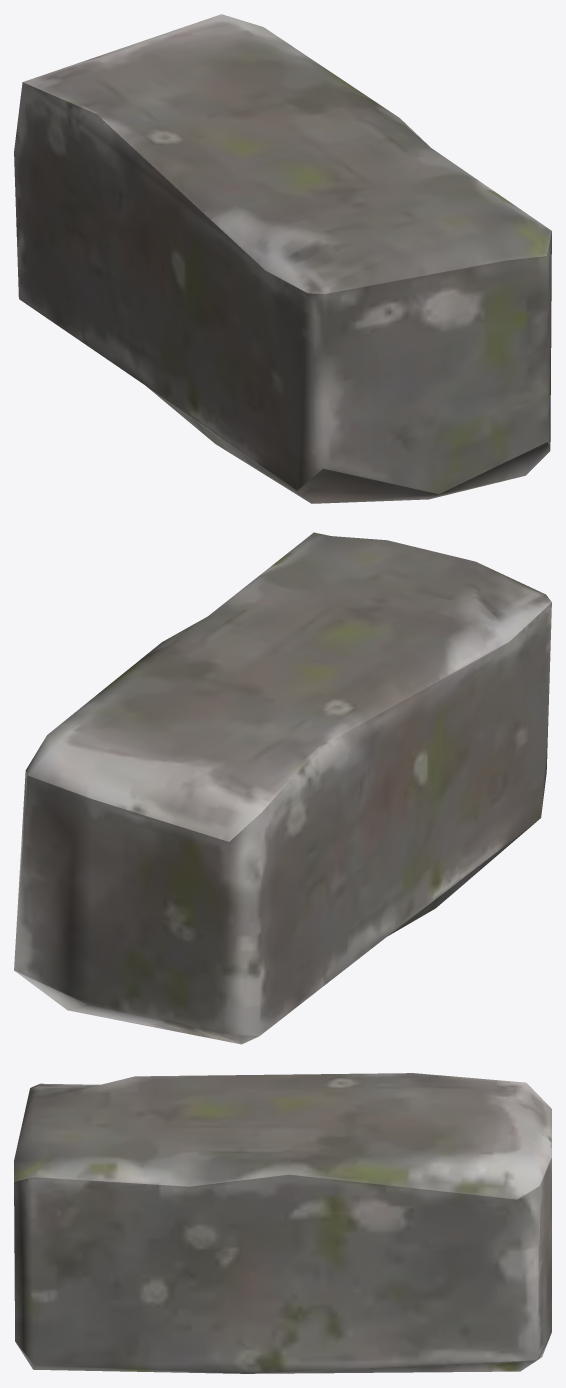
3 renders of one model, top to bottom at view 1: azimuth 30°, elevation 25°; view 2: azimuth 150°, elevation 25°; view 3: azimuth 270°, elevation 25°, orthographic. The views are drawn at different scales.
Visible parts, largest first — view 1: SM_River_Bridge_Unique_Bricks_04_LOD0; view 2: SM_River_Bridge_Unique_Bricks_04_LOD0; view 3: SM_River_Bridge_Unique_Bricks_04_LOD0.
Part boxes in pixels (left/top/right/bottom): SM_River_Bridge_Unique_Bricks_04_LOD0: left=14, top=14, right=551, bottom=503; SM_River_Bridge_Unique_Bricks_04_LOD0: left=14, top=532, right=551, bottom=1044; SM_River_Bridge_Unique_Bricks_04_LOD0: left=14, top=1073, right=551, bottom=1373.
Bounding box in the file's own units: 0.2762 × 0.2751 × 0.6306.
1 material, 1 textured.
